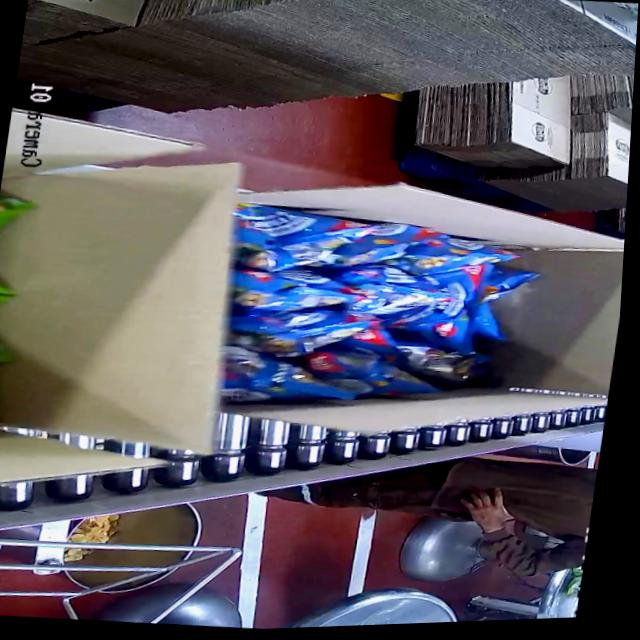PAPRIKA: (156, 178, 558, 415)
